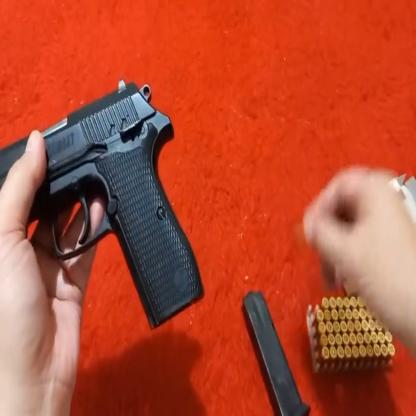handgun: (0, 70, 206, 336)
